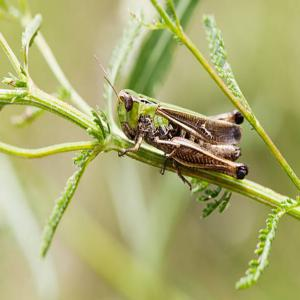locust: (91, 69, 259, 181)
